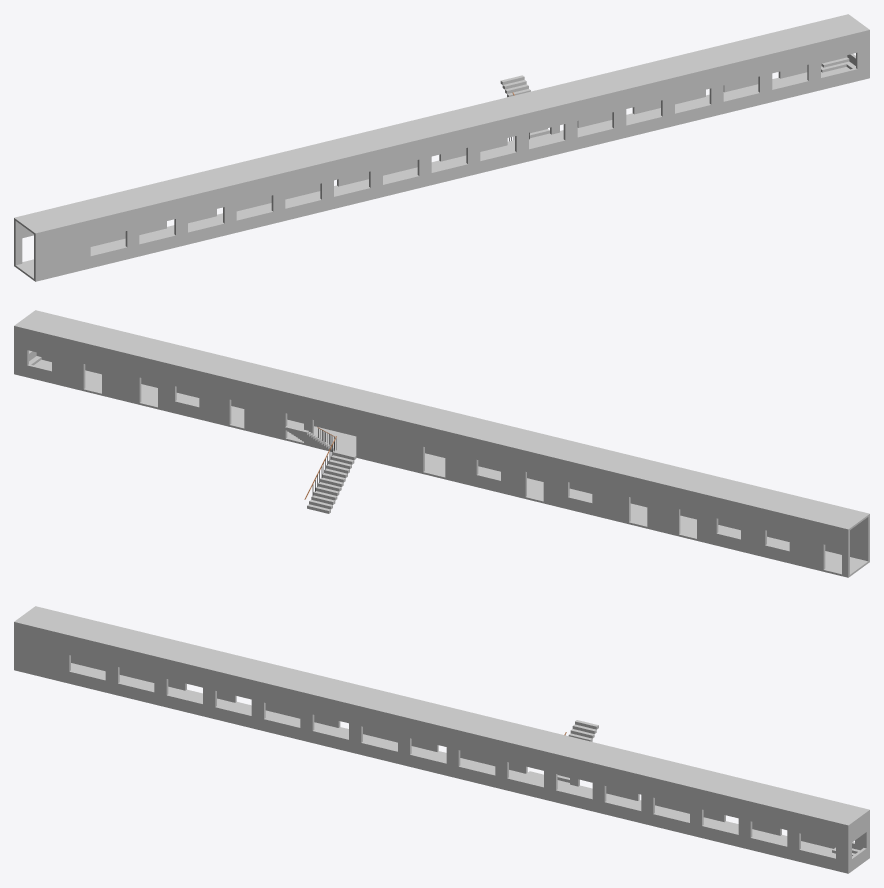
Rendered from design1.glb.
The picture shows the model from 3 angles, top to bottom: view 1: azimuth 30°, elevation 25°; view 2: azimuth 150°, elevation 25°; view 3: azimuth 330°, elevation 25°; orthographic projection.
Visible parts, largest first — view 1: _G-Object.032 (Loose Mesh), G-Object.030, G-Object.028, C-Component#1, G-Object.029; view 2: C-Component#1, G-Object.030, G-Object.028, _G-Object.032 (Loose Mesh); view 3: _G-Object.032 (Loose Mesh), G-Object.030, G-Object.028, C-Component#1, G-Object.029.
Part boxes in pixels (left/top/right/bottom): _G-Object.032 (Loose Mesh): left=34, top=32, right=867, bottom=279; G-Object.030: left=14, top=15, right=867, bottom=235; G-Object.028: left=14, top=67, right=867, bottom=281; C-Component#1: left=14, top=55, right=847, bottom=265; G-Object.029: left=821, top=14, right=869, bottom=78; C-Component#1: left=16, top=328, right=849, bottom=575; G-Object.030: left=16, top=311, right=869, bottom=531; G-Object.028: left=16, top=359, right=869, bottom=577; _G-Object.032 (Loose Mesh): left=36, top=352, right=869, bottom=561; _G-Object.032 (Loose Mesh): left=14, top=624, right=845, bottom=870; G-Object.030: left=14, top=606, right=866, bottom=826; G-Object.028: left=14, top=663, right=845, bottom=872; C-Component#1: left=71, top=655, right=863, bottom=850; G-Object.029: left=832, top=809, right=869, bottom=873.
Size of the model in its own units: 68.57 by 6.64 by 7.39.
3 materials, 1 textured.
